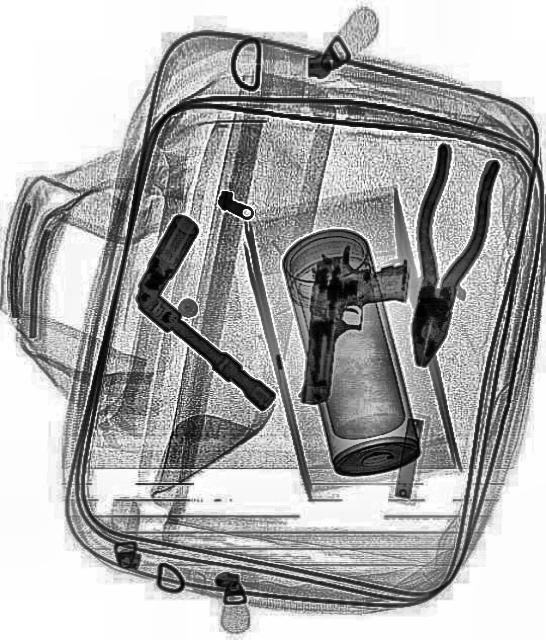Gun: (296, 242, 412, 420)
Pliers: (386, 139, 502, 375)
